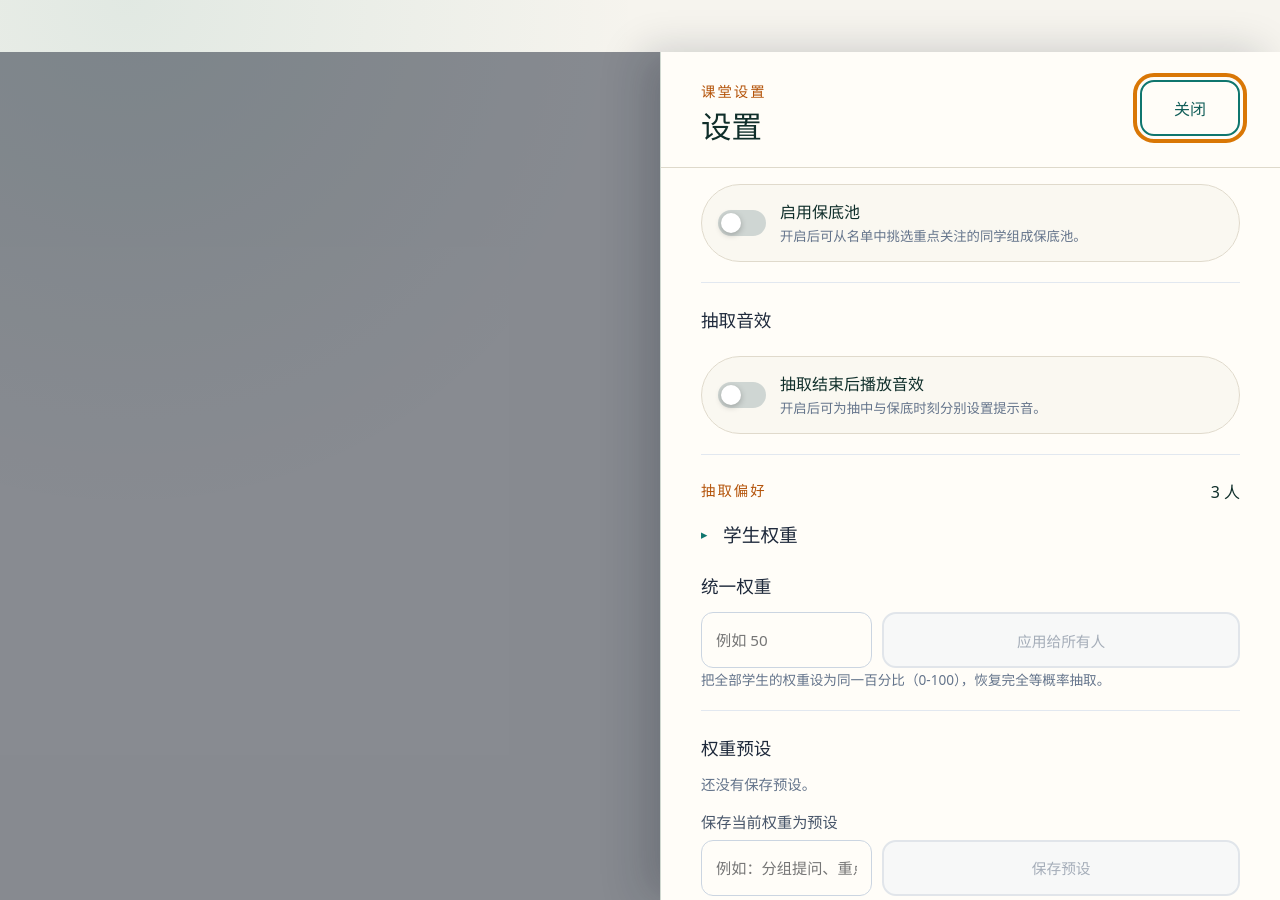
Test: 设置抽屉 › 权重按百分比输入并在失焦后提交数值
(page scrolled)
Step 1. Click the button "▸ 学生权重" → (749, 534), box [701,518,798,549]
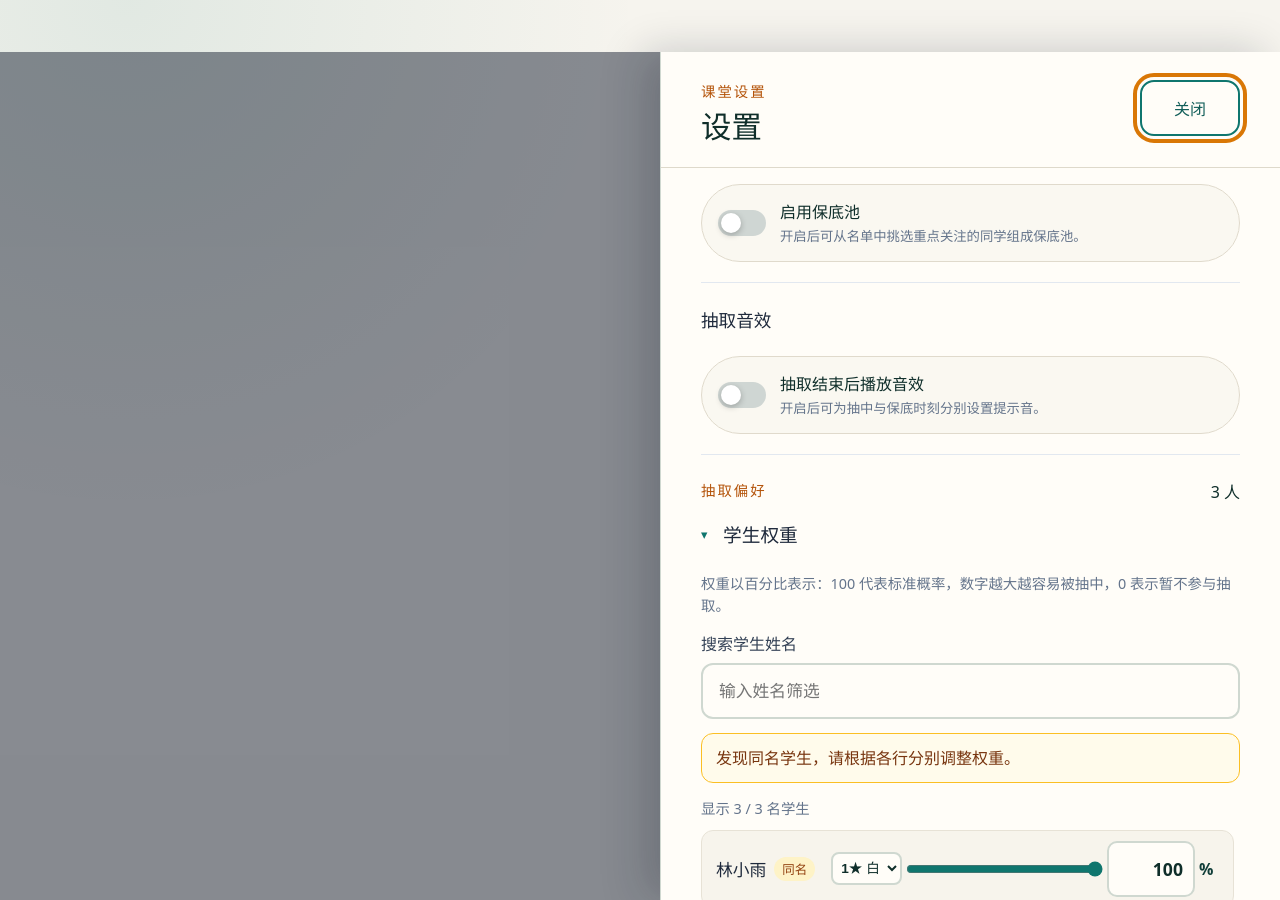
Step 2. Replace the text in the field named "林小雨权重百分比" with "35" → (1151, 868), box [1107,840,1195,896]
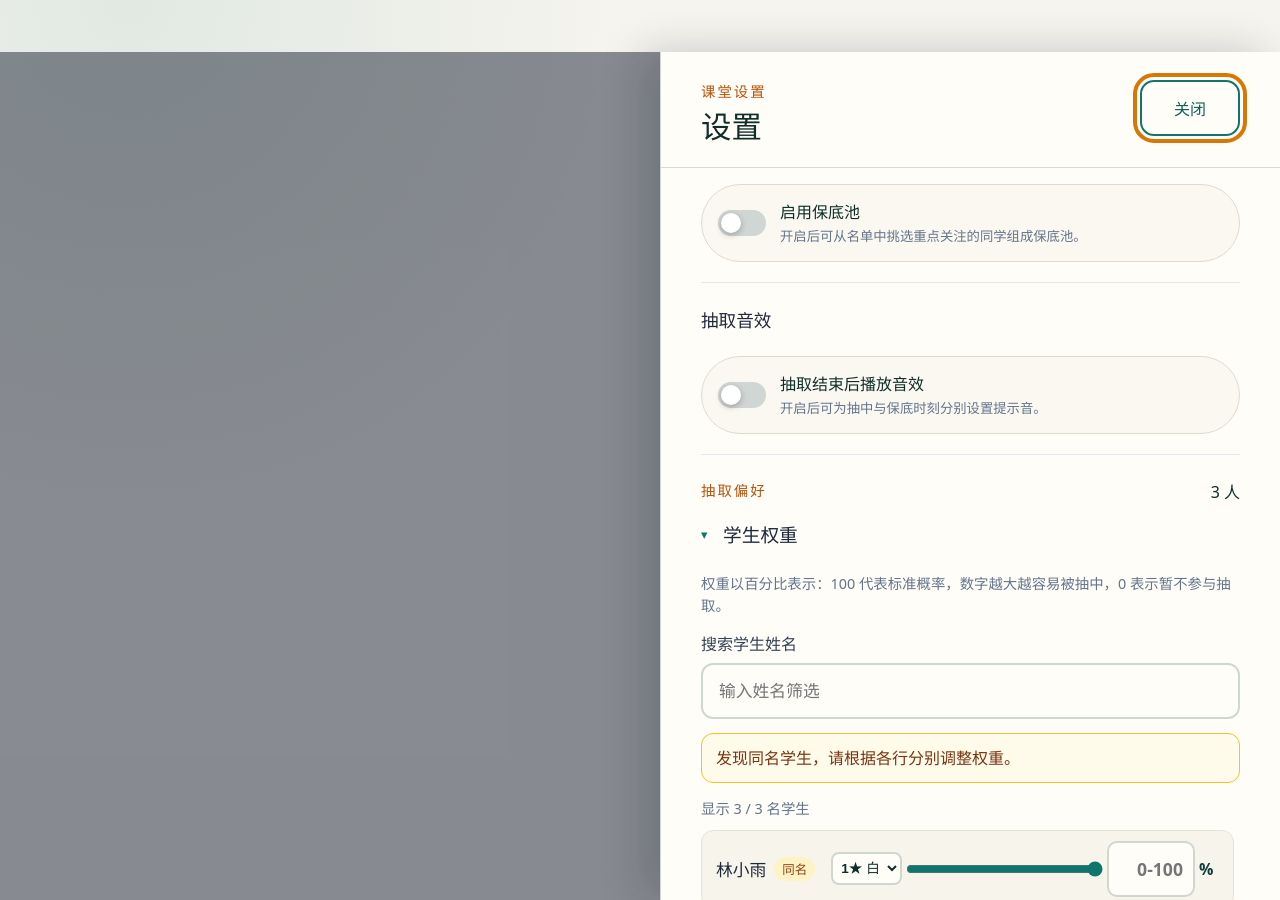
Step 3. Type "1.2.3" into the field named "林小雨权重百分比" → (1151, 868), box [1107,840,1195,896]
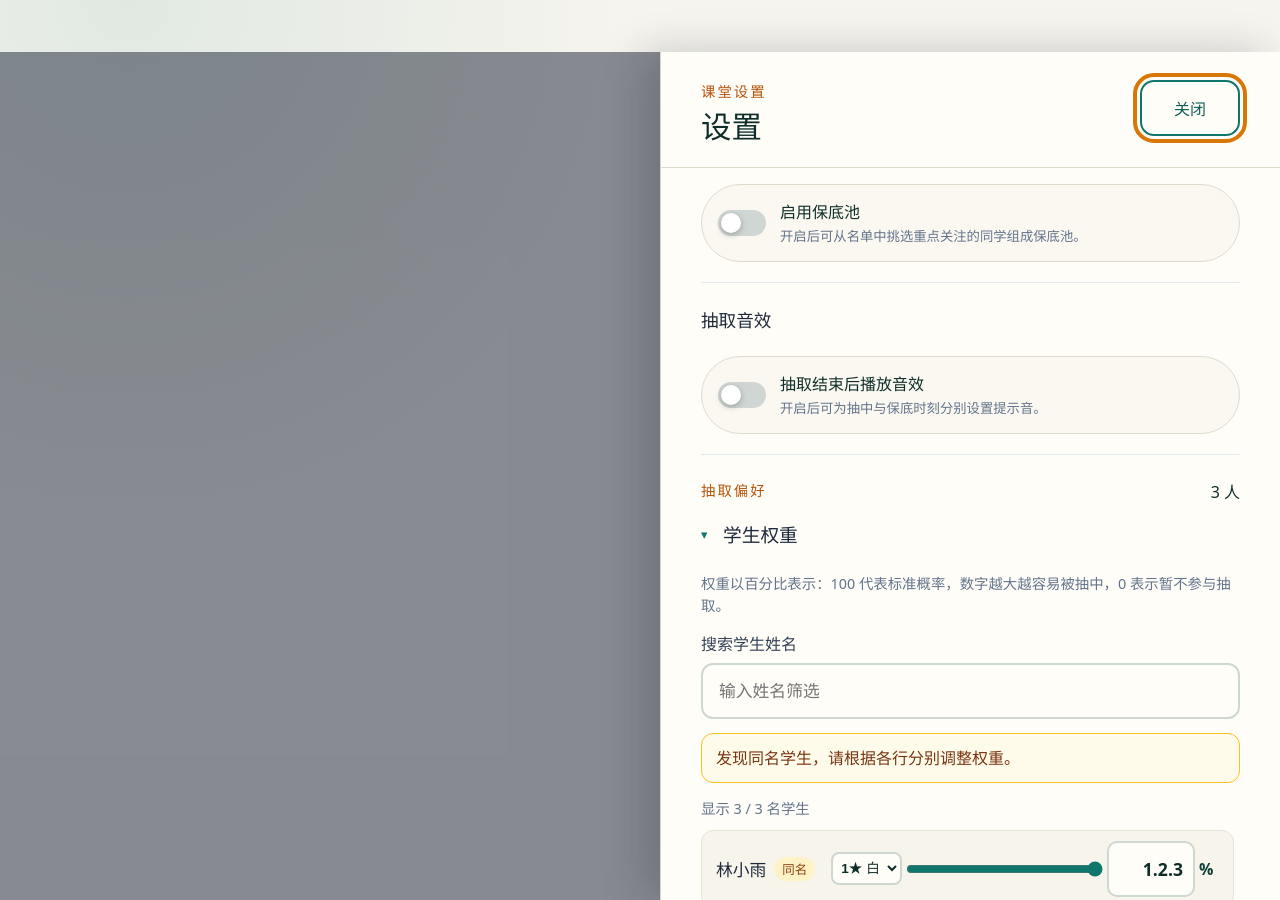
Step 4. Leave the field named "林小雨权重百分比", box [1107,840,1195,896]
(page scrolled)
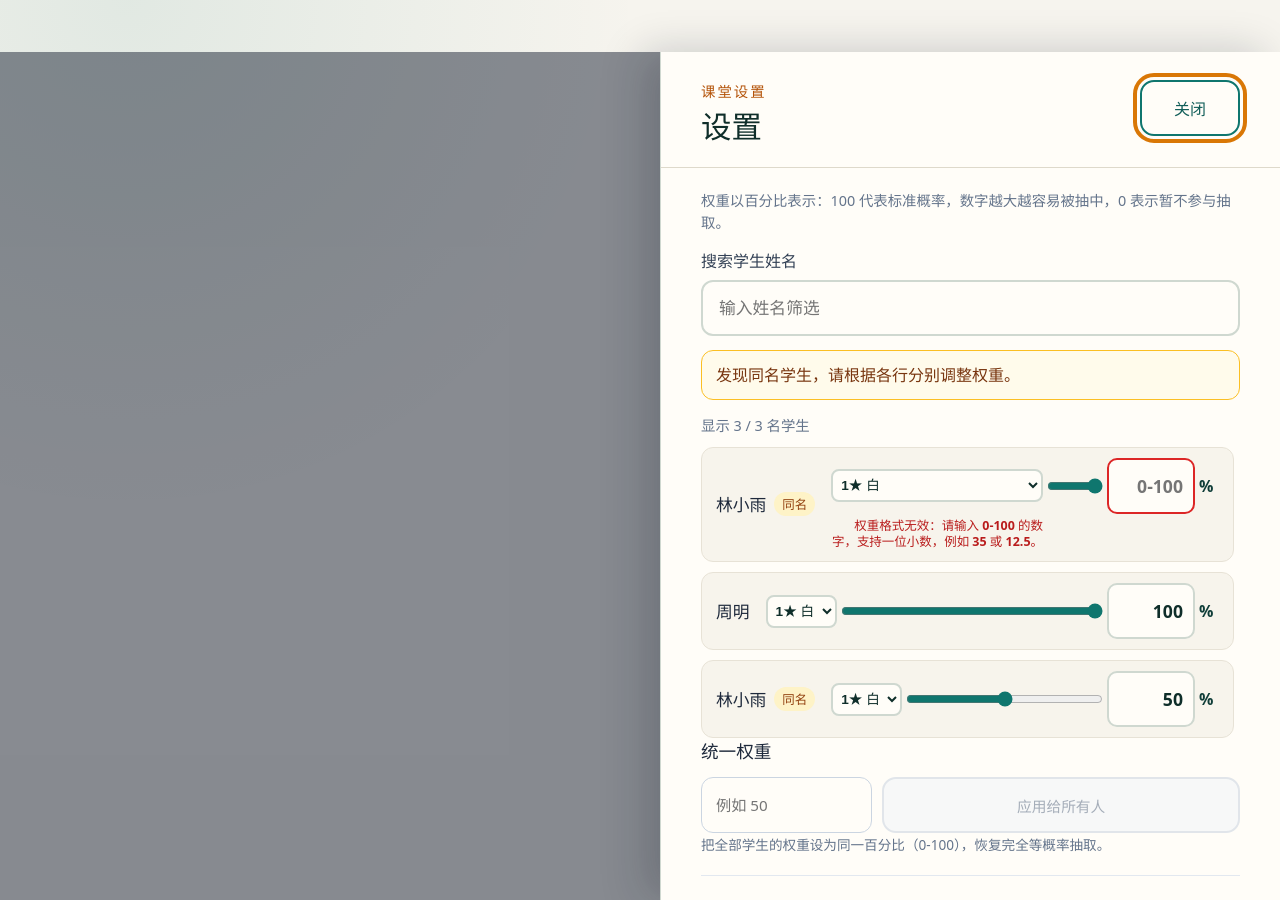
Now the message "权重格式无效：请输入 0-100 的数字，支持一位小数，例如 35 或 12.5。" is shown, box [831,518,1043,551]
